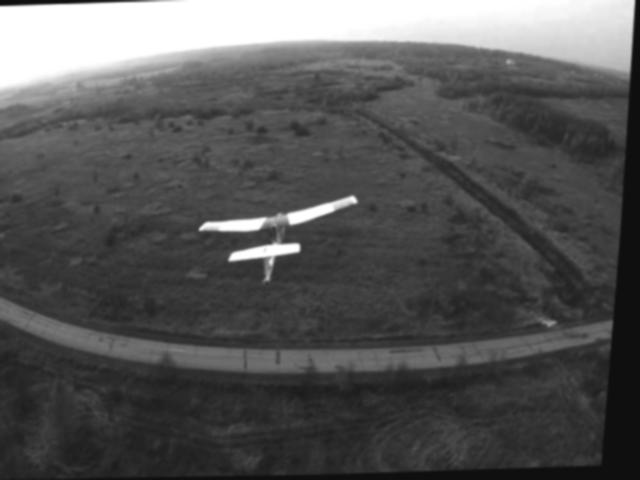hedef: (191, 189, 365, 280)
